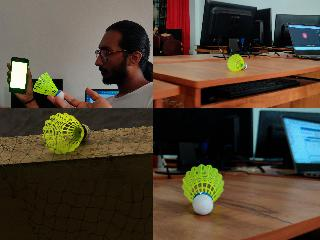shuttlecock: (182, 164, 224, 214), (42, 112, 90, 154), (32, 72, 64, 98), (227, 54, 247, 70)
